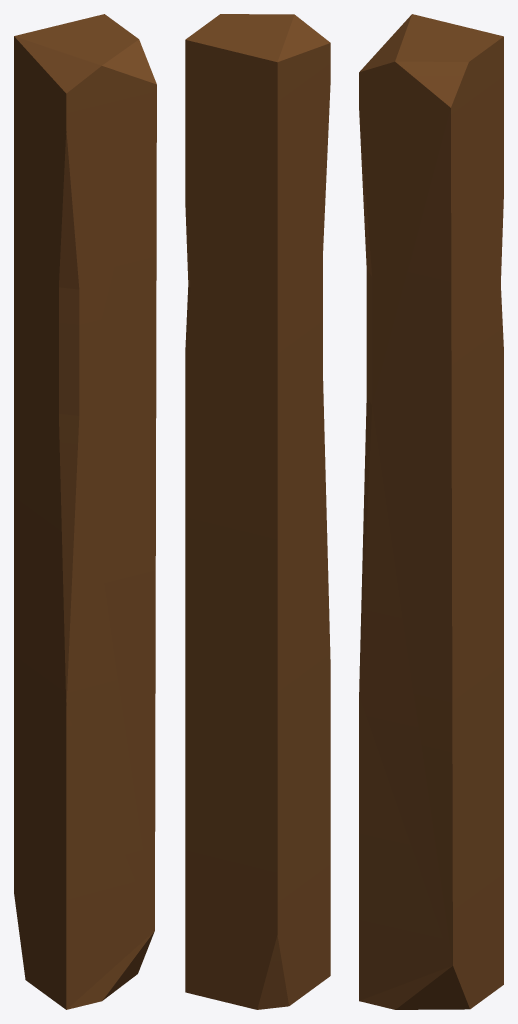
File: Bld_02_Fence_Wood_Pole_Worned_01.obj
The picture shows the model from 3 angles, left to right: view 1: azimuth 30°, elevation 25°; view 2: azimuth 150°, elevation 25°; view 3: azimuth 330°, elevation 25°; orthographic projection.
Parts seen in each view (by area): view 1: Bld_02_Fence_Wood_Pole_Worned_01; view 2: Bld_02_Fence_Wood_Pole_Worned_01; view 3: Bld_02_Fence_Wood_Pole_Worned_01.
Part boxes in pixels (bbox=[...]): Bld_02_Fence_Wood_Pole_Worned_01: bbox=[14, 14, 156, 1009]; Bld_02_Fence_Wood_Pole_Worned_01: bbox=[185, 14, 330, 1009]; Bld_02_Fence_Wood_Pole_Worned_01: bbox=[359, 14, 503, 1009].
Bounding box in the file's own units: 0.155 × 1.53 × 0.155.
Materials: 1 (1 with a texture image).
